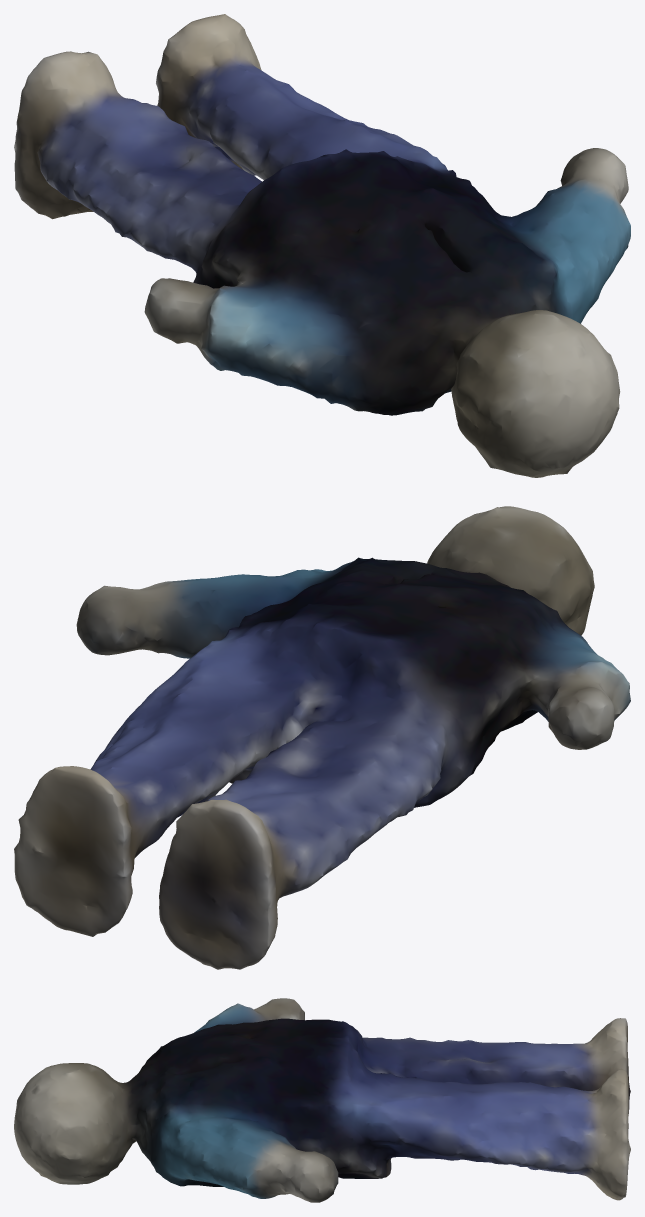
Rendered from grandfather.glb.
3 renders of one model, top to bottom at view 1: azimuth 30°, elevation 25°; view 2: azimuth 150°, elevation 25°; view 3: azimuth 270°, elevation 25°, orthographic. The views are drawn at different scales.
Bounding box in the file's own units: 0.679 × 0.2369 × 0.9976.
